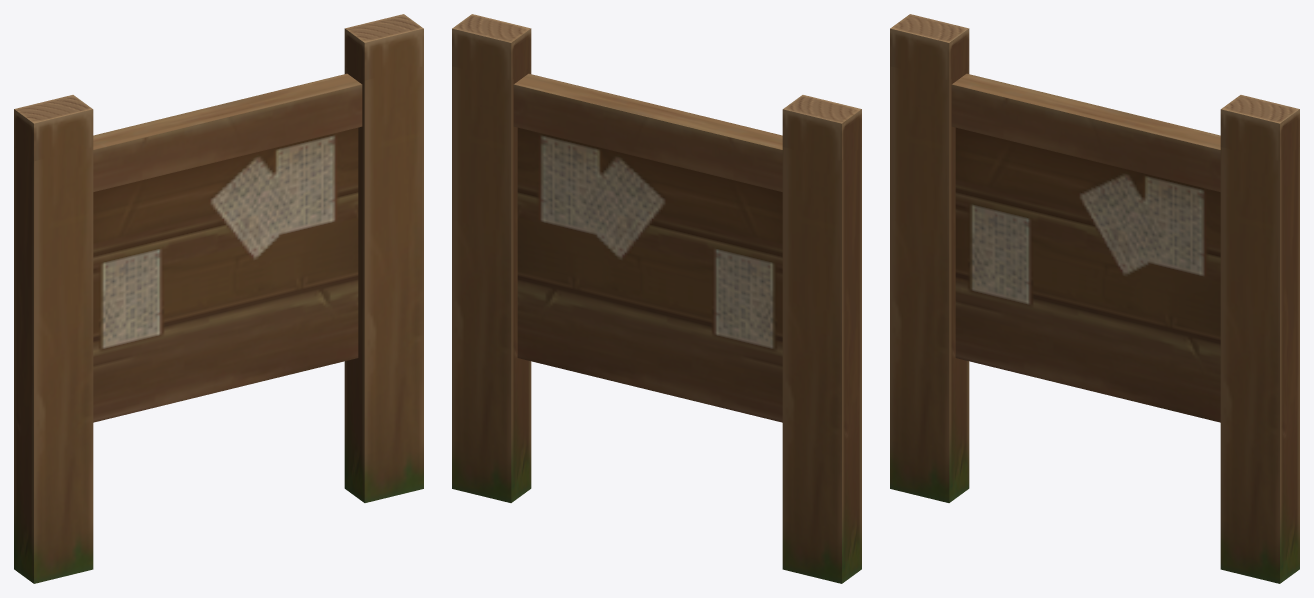
Rendered from scene_lawennushandao_mupai01.FBX.
The picture shows the model from 3 angles, left to right: view 1: azimuth 30°, elevation 25°; view 2: azimuth 150°, elevation 25°; view 3: azimuth 330°, elevation 25°; orthographic projection.
Visible parts, largest first — view 1: scene_lawennushandao_mupai01; view 2: scene_lawennushandao_mupai01; view 3: scene_lawennushandao_mupai01.
Boxes of the visible parts, left/top/right/bottom form: scene_lawennushandao_mupai01: left=14, top=14, right=423, bottom=583; scene_lawennushandao_mupai01: left=452, top=14, right=861, bottom=583; scene_lawennushandao_mupai01: left=890, top=14, right=1299, bottom=583.
Bounding box in the file's own units: 158 × 178 × 13.98.
